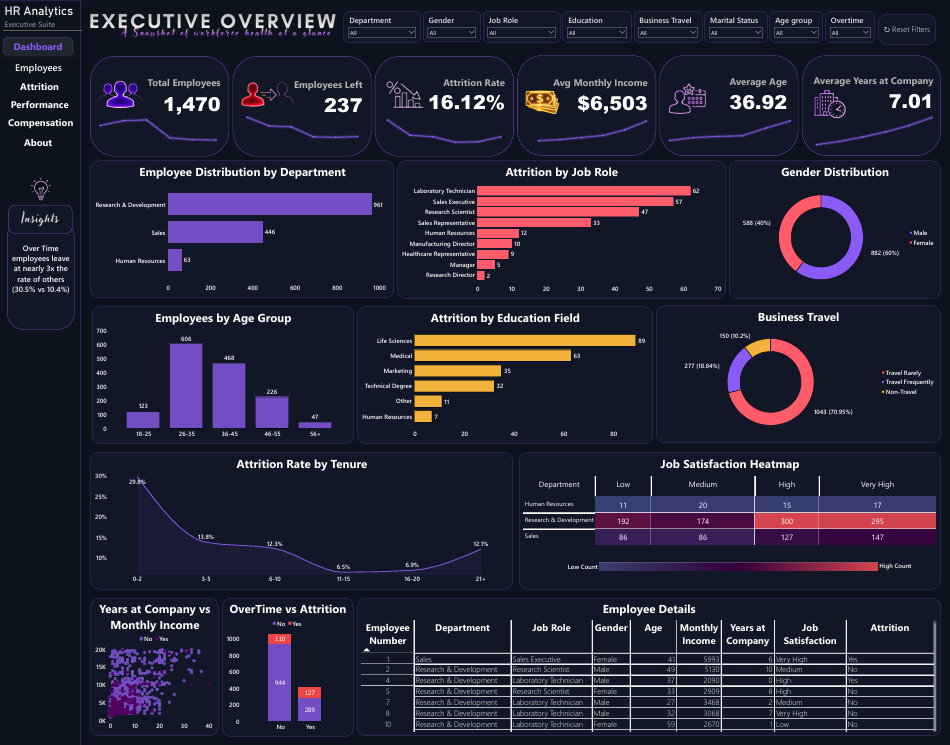

Layout of this report page (visuals, bound fields, positions):
{"tool":"powerbi","page":{"name":"Dashboard","canvas":[3300,2591],"ordinal":0},"visuals":[{"type":"shape","box":[316.2,194.6,481.1,348.6],"z":0},{"type":"deneb7E15AEF80B9E4D4F8E12924291ECE89A","fields":{"dataset":["Measures (2).Average Years at Company","HR.TenureBucket"]},"box":[2783.8,383.8,508.1,148.6],"z":500,"group":"g1"},{"type":"shape","box":[809.7,194.6,481.1,348.6],"z":1000},{"type":"shape","box":[1303.2,194.6,481.1,348.6],"z":2000},{"type":"shape","box":[1796.8,191.9,481.1,348.6],"z":3000},{"type":"shape","box":[2290.3,191.9,481.1,348.6],"z":4000},{"type":"shape","box":[2783.8,191.9,481.1,348.6],"z":5000},{"type":"shape","box":[0,0,282.7,2591],"z":6000},{"type":"actionButton","box":[13,130,243,62],"z":7000},{"type":"textbox","title":"HR Analytics","box":[13.9,13.9,272.2,136.1],"z":8000},{"type":"actionButton","box":[15,195,243,75],"z":9000},{"type":"actionButton","box":[19,268,242,56],"z":10000},{"type":"actionButton","box":[18.9,324.3,243.2,73],"z":11000},{"type":"actionButton","box":[17,389,254,69],"z":12000},{"type":"actionButton","box":[14,462,242,62],"z":13000},{"type":"clusteredBarChart","title":"Employee Distribution by Department","fields":{"Category":["HR.Department"],"Y":["Measures (2).Total Employees"]},"box":[316.7,558.3,1052.8,475],"z":14000},{"type":"clusteredBarChart","title":"Attrition by Job Role","fields":{"Category":["HR.JobRole"],"Y":["Measures (2).Employees Left"]},"box":[1380.6,558.3,1138.9,477.8],"z":15000},{"type":"donutChart","title":"Gender Distribution","fields":{"Y":["Measures (2).Total Employees"],"Category":["HR.Gender"]},"box":[2530.6,558.3,733.3,477.8],"z":16000},{"type":"clusteredColumnChart","title":"Employees by Age Group","fields":{"Y":["Measures (2).Total Employees"],"Category":["HR.Age Group"]},"box":[322.2,1063.9,908.3,475],"z":17000},{"type":"clusteredBarChart","title":"Attrition by Education Field","fields":{"Category":["HR.EducationField"],"Y":["Measures (2).Employees Left"]},"box":[1241.7,1063.9,1025,475],"z":18000},{"type":"donutChart","title":"Business Travel","fields":{"Y":["Measures (2).Total Employees"],"Category":["HR.BusinessTravel"]},"box":[2277.8,1061.1,986.1,475],"z":19000},{"type":"areaChart","title":"Attrition Rate by Tenure","fields":{"Category":["HR.TenureBucket"],"Y":["Measures (2).Attrition Rate"]},"box":[316.7,1569.4,1463.9,475],"z":20000},{"type":"pivotTable","title":"Job Satisfaction Heatmap","fields":{"Rows":["HR.Department"],"Columns":["HR.Job Satisfaction Label"],"Values":["Measures (2).Total Employees"]},"box":[1802.8,1569.4,1461.1,475],"z":21000},{"type":"textbox","title":"Low Count","box":[1966.7,1950,113.9,30.6],"z":22000},{"type":"textbox","title":"High Count","box":[3047.2,1947.2,147.2,30.6],"z":23000},{"type":"image","box":[2080.6,1947.2,963.9,36.1],"z":24000},{"type":"scatterChart","title":"Years at Company vs Monthly Income","fields":{"X":["HR.YearsAtCompany"],"Y":["HR.MonthlyIncome"],"Series":["HR.Attrition"]},"box":[317.5,2075,442.5,477.5],"z":25000},{"type":"columnChart","title":"OverTime vs Attrition","fields":{"Series":["HR.Attrition"],"Category":["HR.OverTime"],"Y":["Measures (2).Total Employees"]},"box":[773.3,2075,455,480],"z":26000},{"type":"tableEx","title":"Employee Details","fields":{"Values":["HR.EmployeeNumber","HR.Department","HR.JobRole","HR.Gender","HR.Age","HR.MonthlyIncome","HR.YearsAtCompany","HR.Job Satisfaction Label","HR.Attrition"]},"box":[1241.7,2075,2022.2,477.8],"z":27000},{"type":"deneb7E15AEF80B9E4D4F8E12924291ECE89A","fields":{"dataset":["Measures (2).Total Employees","HR.TenureBucket"]},"box":[300,391.9,510.8,124.3],"z":28000},{"type":"cardVisual","fields":{"Data":["Measures (2).Attrition Rate"]},"box":[1451.4,216.2,332.4,229.7],"z":29000},{"type":"slicer","fields":{"Values":["HR.BusinessTravel"]},"box":[2201,40,237,107],"z":30000,"group":"g3"},{"type":"cardVisual","fields":{"Data":["Measures (2).Average Monthly Income"]},"box":[1843.2,227,435.1,210.8],"z":30000},{"type":"deneb7E15AEF80B9E4D4F8E12924291ECE89A","fields":{"dataset":["HR.TenureBucket","Measures (2).Average Monthly Income"]},"box":[1821.6,397.3,478.4,137.8],"z":31000},{"type":"slicer","fields":{"Values":["HR.Department"]},"box":[1195,41,267,107],"z":32000,"group":"g3"},{"type":"cardVisual","fields":{"Data":["Measures (2).Average Age"]},"box":[2359.5,227,402.7,205.4],"z":32000},{"type":"cardVisual","fields":{"Data":["Measures (2).Employees Left"]},"box":[900,213.5,389.2,254.1],"z":33000},{"type":"cardVisual","fields":{"Data":["Measures (2).Total Employees"]},"box":[464.9,232.4,332.4,205.4],"z":34000},{"type":"deneb7E15AEF80B9E4D4F8E12924291ECE89A","fields":{"dataset":["Measures (2).Average Age","HR.TenureBucket"]},"box":[2273,391.9,529.7,302.7],"z":35000},{"type":"slicer","fields":{"Values":["HR.Gender"]},"box":[1470,41,200,105],"z":36000,"group":"g3"},{"type":"group","id":"g1","title":"Group 5","box":[2783.8,383.8,508.1,148.6],"z":36000},{"type":"deneb7E15AEF80B9E4D4F8E12924291ECE89A","fields":{"dataset":["HR.TenureBucket","Measures (2).Attrition Rate"]},"box":[1297.3,391.9,500,140.5],"z":37000},{"type":"slicer","fields":{"Values":["HR.JobRole"]},"box":[1678,40,268,107],"z":38000,"group":"g3"},{"type":"deneb7E15AEF80B9E4D4F8E12924291ECE89A","fields":{"dataset":["HR.TenureBucket","Measures (2).Employees Left"]},"box":[810.8,383.8,489.2,124.3],"z":38000},{"type":"slicer","fields":{"Values":["HR.EducationField"]},"box":[1954,40,239,107],"z":39000,"group":"g3"},{"type":"shape","box":[27.8,761.1,233.3,383.3],"z":39000},{"type":"textbox","box":[36.1,836.1,216.7,202.8],"z":40000},{"type":"slicer","fields":{"Values":["HR.MaritalStatus"]},"box":[2446,40,218,107],"z":41000,"group":"g3"},{"type":"group","id":"g2","title":"Group 1","box":[32.4,710.8,221.6,100],"z":41000},{"type":"slicer","fields":{"Values":["HR.Age Group"]},"box":[2672,40,185,107],"z":42000,"group":"g3"},{"type":"cardVisual","fields":{"Data":["Measures (2).Average Years at Company"]},"box":[2778.4,213.5,491.9,224.3],"z":42000},{"type":"image","box":[283.8,113.5,273,437.8],"z":43000},{"type":"slicer","fields":{"Values":["HR.OverTime"]},"box":[2865,40.5,172,107],"z":44000,"group":"g3"},{"type":"image","box":[1740.5,135.1,272,437.8],"z":44000},{"type":"image","box":[773,116.2,308.1,437.8],"z":45000},{"type":"image","box":[1240.5,121.6,332.4,437.8],"z":46000},{"type":"image","box":[2200,135.1,367.6,437.8],"z":47000},{"type":"image","box":[2697.3,148.6,400,437.8],"z":48000},{"type":"image","box":[2.8,530.6,283.3,266.7],"z":49000},{"type":"actionButton","title":"↻ Reset Filters","box":[3047.6,50.8,200,103.2],"z":51000},{"type":"group","id":"g3","title":"Group 2","box":[1195,40,1842.5,110],"z":52000},{"type":"image","box":[300,0,876.2,156.2],"z":53000},{"type":"image","box":[67.1,662.9,150,192.9],"z":54001},{"type":"shape","box":[32.4,710.8,221.6,100],"z":59000,"group":"g2"}]}

Visuals, with their boxes on the page's 3300x2591 design canvas (x1, y1, x2, y2). These are canvas units, not pixel positions in the 950x745 screenshot, which may show the page scaled, cropped or inside an application window:
shape: [x1=316, y1=195, x2=797, y2=543]
deneb7E15AEF80B9E4D4F8E12924291ECE89A - Measures (2).Average Years at Company x HR.TenureBucket: [x1=2784, y1=384, x2=3292, y2=532]
shape: [x1=810, y1=195, x2=1291, y2=543]
shape: [x1=1303, y1=195, x2=1784, y2=543]
shape: [x1=1797, y1=192, x2=2278, y2=540]
shape: [x1=2290, y1=192, x2=2771, y2=540]
shape: [x1=2784, y1=192, x2=3265, y2=540]
shape: [x1=0, y1=0, x2=283, y2=2591]
actionButton: [x1=13, y1=130, x2=256, y2=192]
"HR Analytics" textbox: [x1=14, y1=14, x2=286, y2=150]
actionButton: [x1=15, y1=195, x2=258, y2=270]
actionButton: [x1=19, y1=268, x2=261, y2=324]
actionButton: [x1=19, y1=324, x2=262, y2=397]
actionButton: [x1=17, y1=389, x2=271, y2=458]
actionButton: [x1=14, y1=462, x2=256, y2=524]
"Employee Distribution by Department" clusteredBarChart: [x1=317, y1=558, x2=1370, y2=1033]
"Attrition by Job Role" clusteredBarChart: [x1=1381, y1=558, x2=2520, y2=1036]
"Gender Distribution" donutChart: [x1=2531, y1=558, x2=3264, y2=1036]
"Employees by Age Group" clusteredColumnChart: [x1=322, y1=1064, x2=1230, y2=1539]
"Attrition by Education Field" clusteredBarChart: [x1=1242, y1=1064, x2=2267, y2=1539]
"Business Travel" donutChart: [x1=2278, y1=1061, x2=3264, y2=1536]
"Attrition Rate by Tenure" areaChart: [x1=317, y1=1569, x2=1781, y2=2044]
"Job Satisfaction Heatmap" pivotTable: [x1=1803, y1=1569, x2=3264, y2=2044]
"Low Count" textbox: [x1=1967, y1=1950, x2=2081, y2=1981]
"High Count" textbox: [x1=3047, y1=1947, x2=3194, y2=1978]
image: [x1=2081, y1=1947, x2=3044, y2=1983]
"Years at Company vs Monthly Income" scatterChart: [x1=318, y1=2075, x2=760, y2=2552]
"OverTime vs Attrition" columnChart: [x1=773, y1=2075, x2=1228, y2=2555]
"Employee Details" tableEx: [x1=1242, y1=2075, x2=3264, y2=2553]
deneb7E15AEF80B9E4D4F8E12924291ECE89A - Measures (2).Total Employees x HR.TenureBucket: [x1=300, y1=392, x2=811, y2=516]
cardVisual - Measures (2).Attrition Rate: [x1=1451, y1=216, x2=1784, y2=446]
slicer - HR.BusinessTravel: [x1=2201, y1=40, x2=2438, y2=147]
cardVisual - Measures (2).Average Monthly Income: [x1=1843, y1=227, x2=2278, y2=438]
deneb7E15AEF80B9E4D4F8E12924291ECE89A - HR.TenureBucket x Measures (2).Average Monthly Income: [x1=1822, y1=397, x2=2300, y2=535]
slicer - HR.Department: [x1=1195, y1=41, x2=1462, y2=148]
cardVisual - Measures (2).Average Age: [x1=2360, y1=227, x2=2762, y2=432]
cardVisual - Measures (2).Employees Left: [x1=900, y1=214, x2=1289, y2=468]
cardVisual - Measures (2).Total Employees: [x1=465, y1=232, x2=797, y2=438]
deneb7E15AEF80B9E4D4F8E12924291ECE89A - Measures (2).Average Age x HR.TenureBucket: [x1=2273, y1=392, x2=2803, y2=695]
slicer - HR.Gender: [x1=1470, y1=41, x2=1670, y2=146]
"Group 5" group: [x1=2784, y1=384, x2=3292, y2=532]
deneb7E15AEF80B9E4D4F8E12924291ECE89A - HR.TenureBucket x Measures (2).Attrition Rate: [x1=1297, y1=392, x2=1797, y2=532]
slicer - HR.JobRole: [x1=1678, y1=40, x2=1946, y2=147]
deneb7E15AEF80B9E4D4F8E12924291ECE89A - HR.TenureBucket x Measures (2).Employees Left: [x1=811, y1=384, x2=1300, y2=508]
slicer - HR.EducationField: [x1=1954, y1=40, x2=2193, y2=147]
shape: [x1=28, y1=761, x2=261, y2=1144]
textbox: [x1=36, y1=836, x2=253, y2=1039]
slicer - HR.MaritalStatus: [x1=2446, y1=40, x2=2664, y2=147]
"Group 1" group: [x1=32, y1=711, x2=254, y2=811]
slicer - HR.Age Group: [x1=2672, y1=40, x2=2857, y2=147]
cardVisual - Measures (2).Average Years at Company: [x1=2778, y1=214, x2=3270, y2=438]
image: [x1=284, y1=114, x2=557, y2=551]
slicer - HR.OverTime: [x1=2865, y1=40, x2=3037, y2=148]
image: [x1=1740, y1=135, x2=2012, y2=573]
image: [x1=773, y1=116, x2=1081, y2=554]
image: [x1=1240, y1=122, x2=1573, y2=559]
image: [x1=2200, y1=135, x2=2568, y2=573]
image: [x1=2697, y1=149, x2=3097, y2=586]
image: [x1=3, y1=531, x2=286, y2=797]
"↻ Reset Filters" actionButton: [x1=3048, y1=51, x2=3248, y2=154]
"Group 2" group: [x1=1195, y1=40, x2=3038, y2=150]
image: [x1=300, y1=0, x2=1176, y2=156]
image: [x1=67, y1=663, x2=217, y2=856]
shape: [x1=32, y1=711, x2=254, y2=811]
